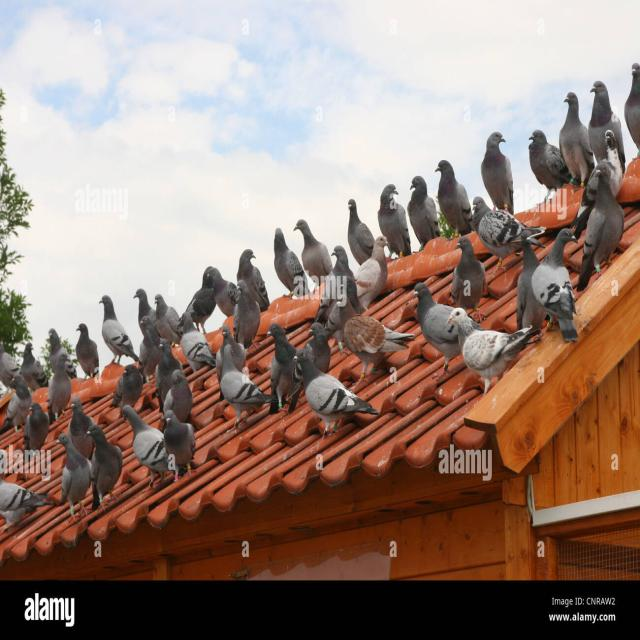bird: (441, 309, 526, 400), (289, 342, 362, 439), (334, 290, 398, 380), (468, 187, 530, 268), (583, 167, 624, 284), (541, 226, 582, 340), (586, 74, 628, 180), (521, 119, 573, 202), (413, 285, 469, 361), (475, 125, 522, 208), (561, 92, 597, 189), (118, 406, 164, 477), (57, 431, 91, 524), (584, 133, 624, 212), (230, 274, 267, 358), (356, 232, 398, 305), (85, 416, 114, 521), (453, 231, 486, 319), (197, 261, 235, 330), (436, 153, 468, 234), (223, 343, 260, 412), (98, 288, 127, 373), (265, 321, 295, 400), (298, 212, 332, 281), (405, 175, 437, 247), (620, 50, 640, 165), (344, 193, 372, 266), (271, 220, 298, 289), (44, 351, 72, 416), (5, 373, 34, 430), (384, 178, 406, 252), (22, 398, 48, 459), (76, 319, 100, 383), (238, 241, 266, 295), (326, 239, 355, 291), (162, 406, 191, 457), (66, 398, 92, 454), (132, 275, 154, 340), (163, 362, 194, 408), (154, 283, 176, 344), (182, 310, 205, 361), (46, 328, 70, 368), (20, 338, 42, 380)
